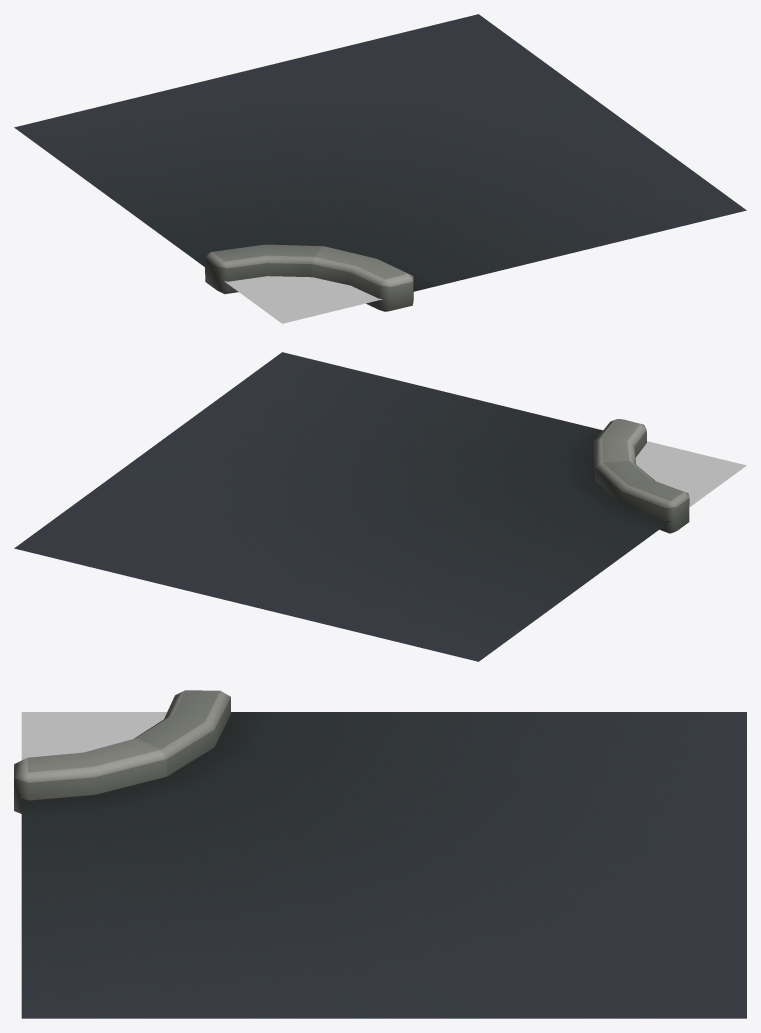
Rendered from parking_lot_corner_convex.fbx.
3 renders of one model, top to bottom at view 1: azimuth 30°, elevation 25°; view 2: azimuth 150°, elevation 25°; view 3: azimuth 270°, elevation 25°, orthographic. The views are drawn at different scales.
Visible parts, largest first — view 1: parking_lot_corner_convex, parking_lot_corner_convex_sidewalk; view 2: parking_lot_corner_convex, parking_lot_corner_convex_sidewalk; view 3: parking_lot_corner_convex, parking_lot_corner_convex_sidewalk.
Boxes of the visible parts, left/top/right/bottom form: parking_lot_corner_convex: left=14, top=14, right=746, bottom=311; parking_lot_corner_convex_sidewalk: left=224, top=276, right=382, bottom=323; parking_lot_corner_convex: left=14, top=352, right=689, bottom=661; parking_lot_corner_convex_sidewalk: left=635, top=441, right=746, bottom=507; parking_lot_corner_convex: left=14, top=690, right=746, bottom=1018; parking_lot_corner_convex_sidewalk: left=21, top=712, right=166, bottom=759.
Size of the model in its own units: 806 by 53.6 by 808.
